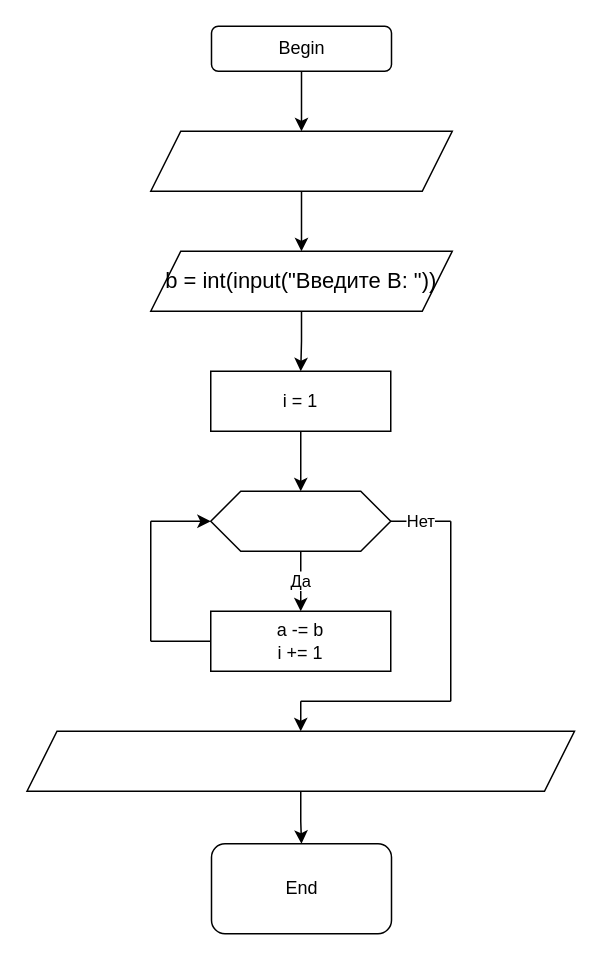
Image size: 600x960. Some labels were removed from this diagram. The shapes that lost their labels are listed below. From the top down, each one's box as (x1, y1, x2, y2) in pixels, then its label:
(149, 130, 452, 191): a = int(input(" Введите А : "))
(209, 490, 391, 551): while (a > b)
(26, 730, 574, 791): print("Количество возможных размещенных отрезков B -", i)
